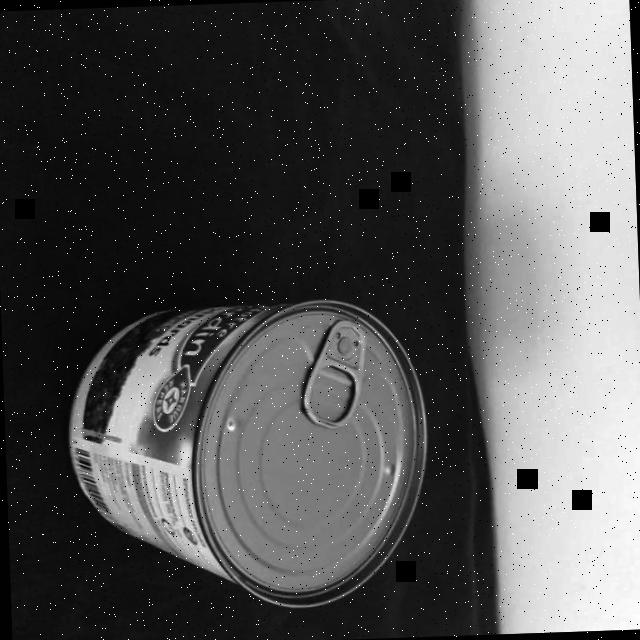can: (58, 288, 434, 620)
